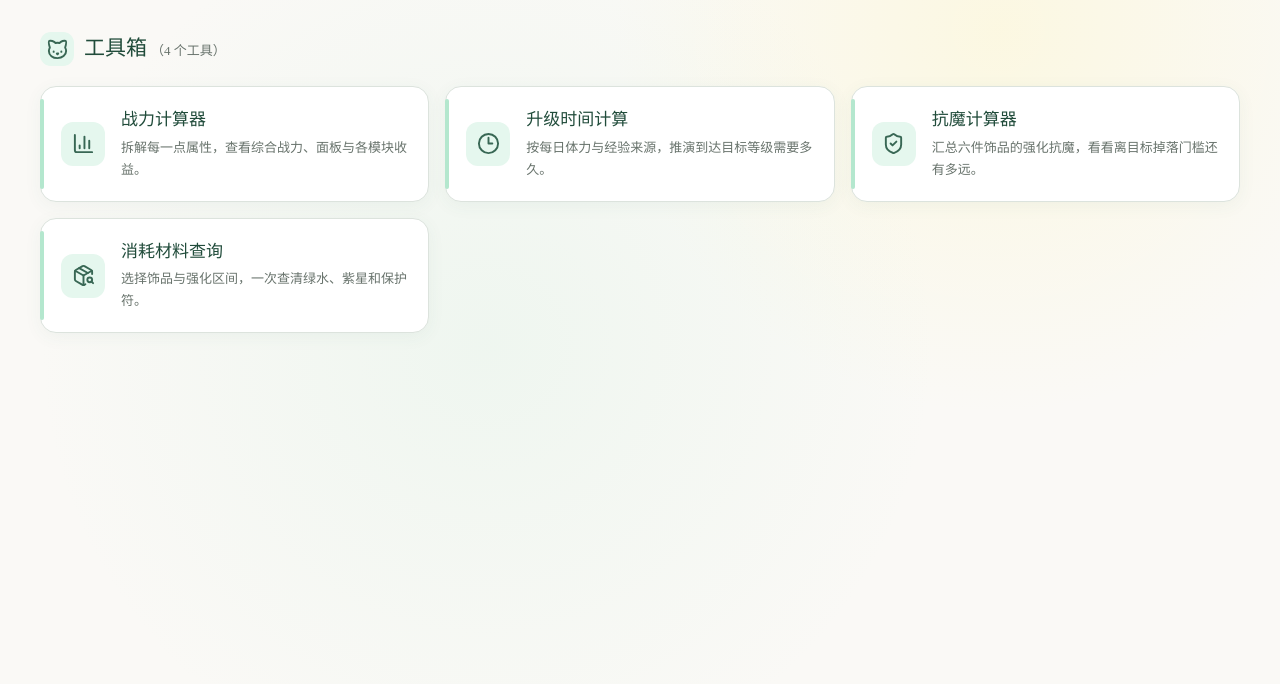
Test: 多板块导航与状态 › 侧边栏只显示当前工具，战力分项仍可折叠展开
Click the link with aria-label "进入升级时间计算" at [640, 144], box [445, 86, 835, 202]
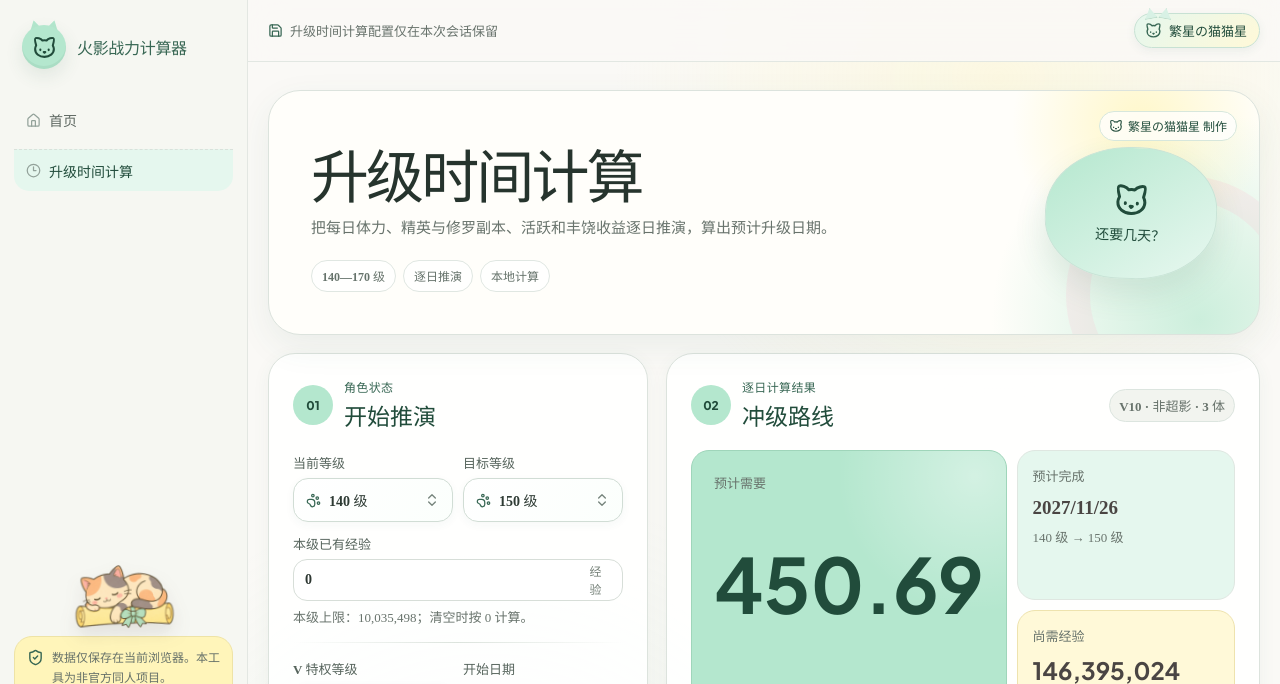
Click the button "首页" at [124, 120], box [14, 99, 233, 141]
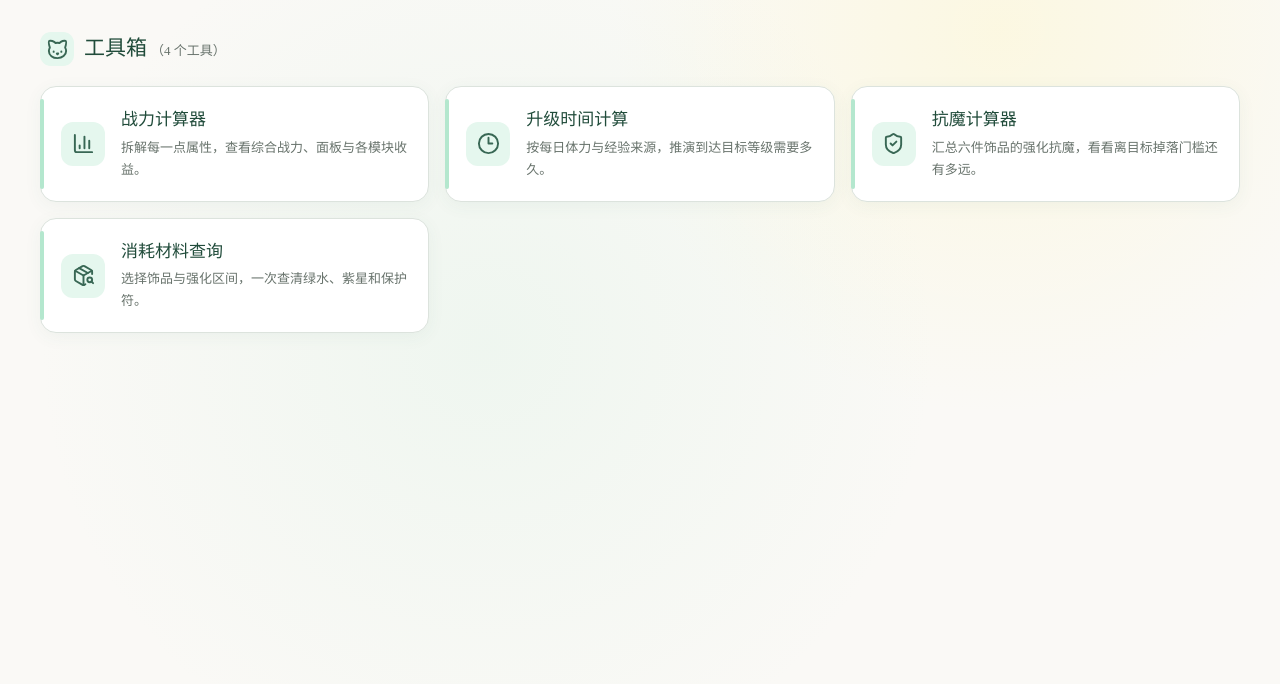
Click the link with aria-label "进入战力计算器" at [235, 144], box [40, 86, 429, 202]
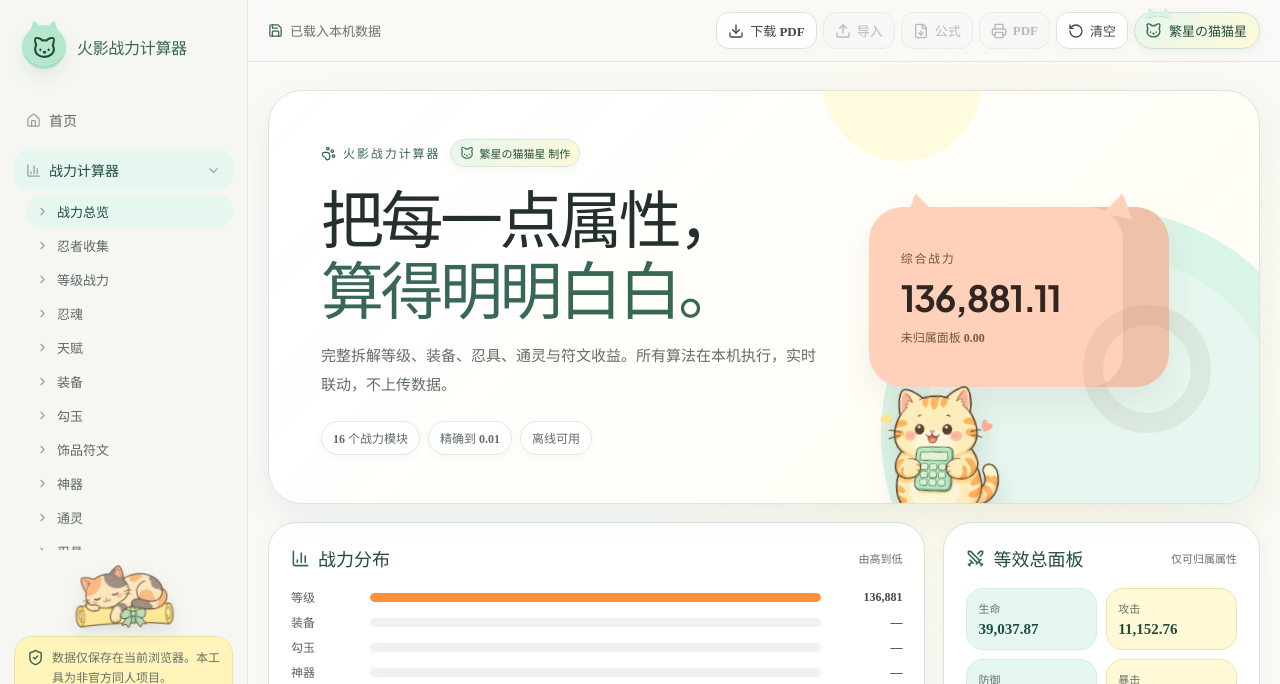
Click the button "战力计算器" at [124, 170], box [14, 149, 233, 191]
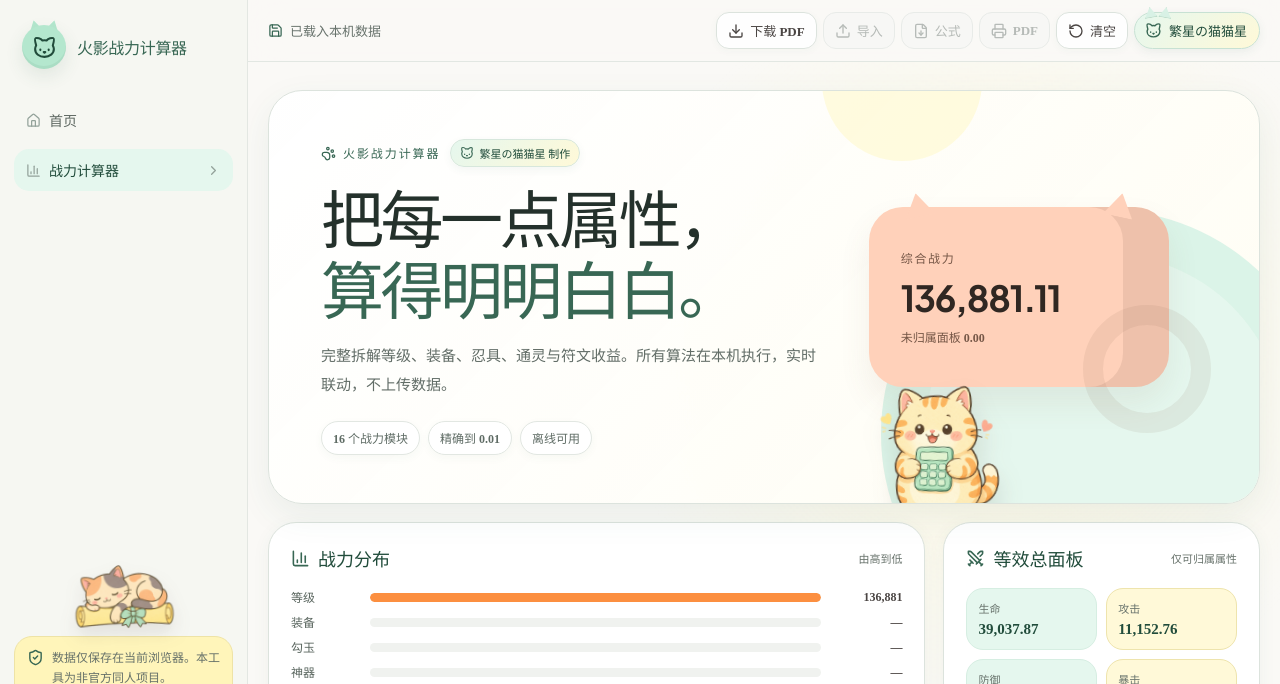
Expected: the link "战力总览" is gone
Click the button "战力计算器" at [124, 170], box [14, 149, 233, 191]
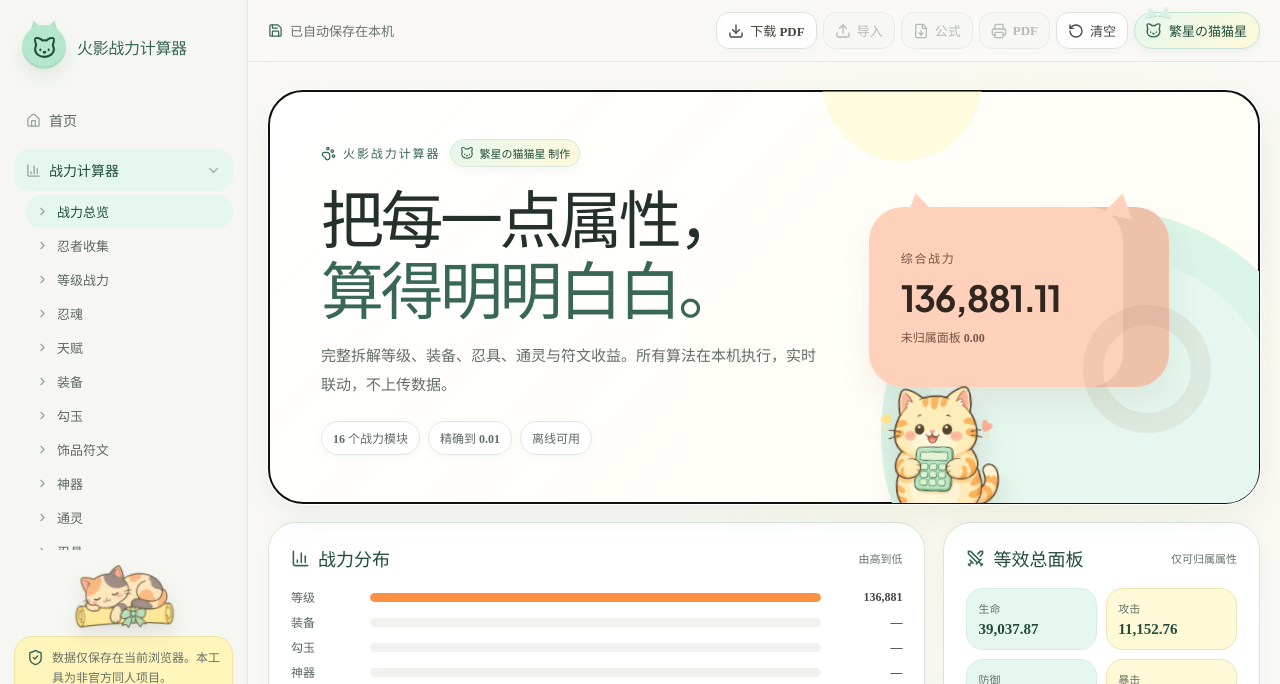
Expected: the link "战力总览" is shown, [26, 195, 233, 228]
